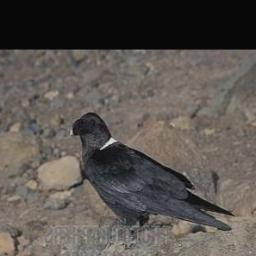Crow: (67, 111, 238, 254)
